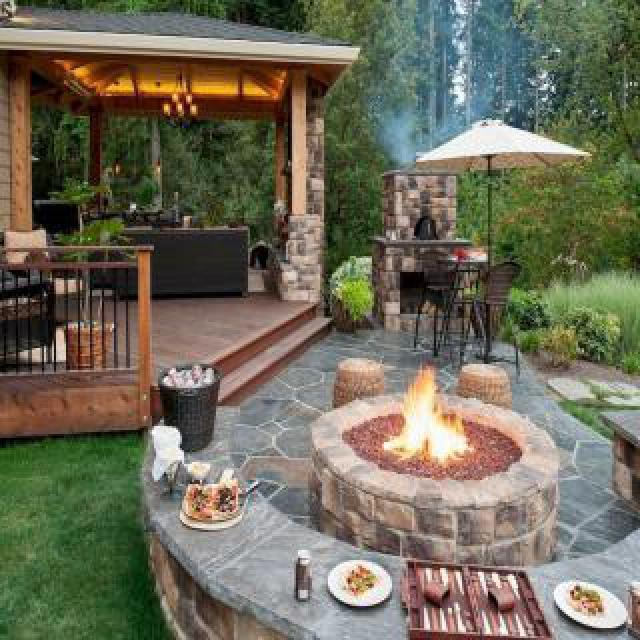fire: (391, 358, 508, 463)
